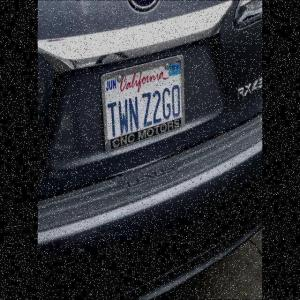Plate: (100, 56, 186, 138)
